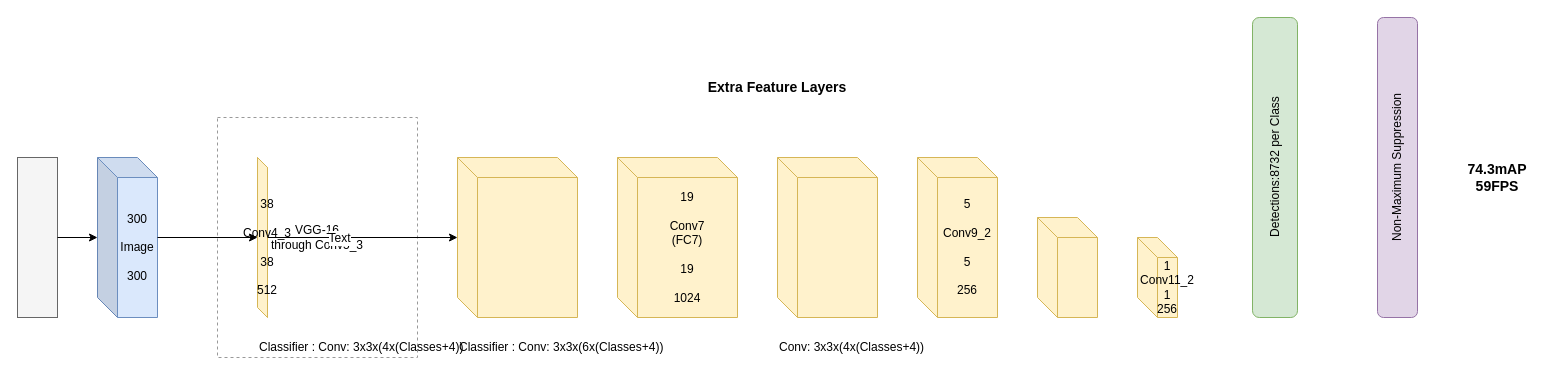
Some shapes in this 1565 by 375 pixel diagram are drawn without their labels. Each missing label, with the centre of its shape:
"10 Conv8_2 10 512" goes at (827,237).
"19 Conv6 (FC6) 19 1024" goes at (517,237).
"3 Conv10_2 3 256" goes at (1067,267).
"SSD" goes at (37,237).
